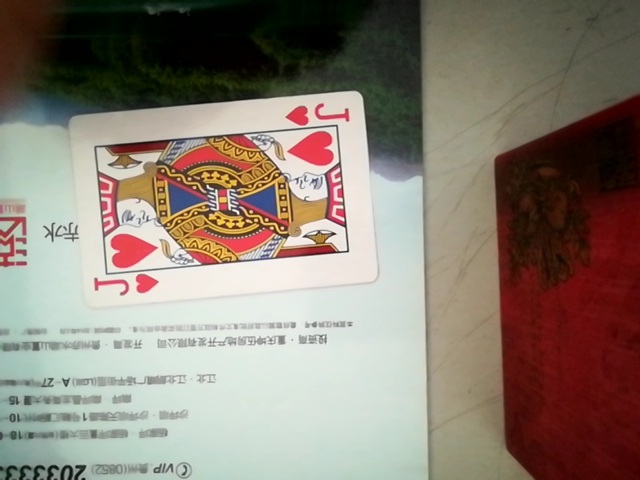hx j: (66, 84, 379, 311)
